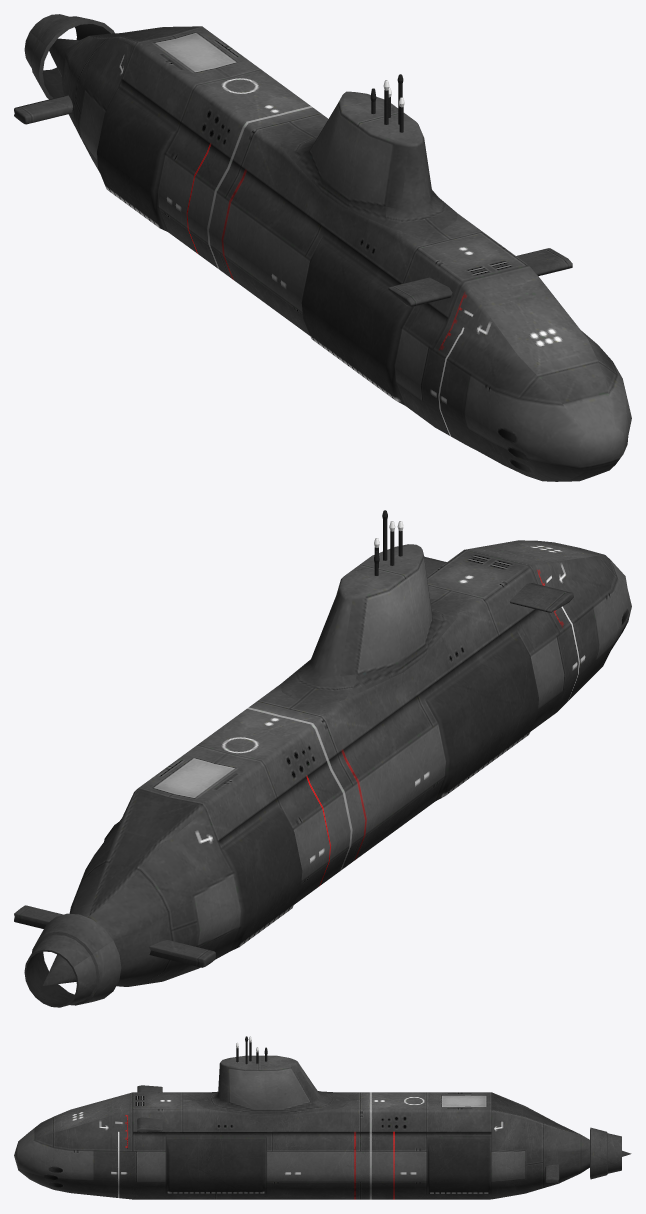
The model's file is submarine.glb.
The picture shows the model from 3 angles, top to bottom: view 1: azimuth 30°, elevation 25°; view 2: azimuth 150°, elevation 25°; view 3: azimuth 270°, elevation 25°; orthographic projection. The views are drawn at different scales.
Parts seen in each view (by area): view 1: Object_2; view 2: Object_2; view 3: Object_2.
Part boxes in pixels (x1,y1,x2,y2): Object_2: (14,14,631,481); Object_2: (14,510,631,1007); Object_2: (14,1036,631,1199).
Bounding box in the file's own units: 0.9125 × 1.32 × 4.65.
Materials: 1 (1 with a texture image).
